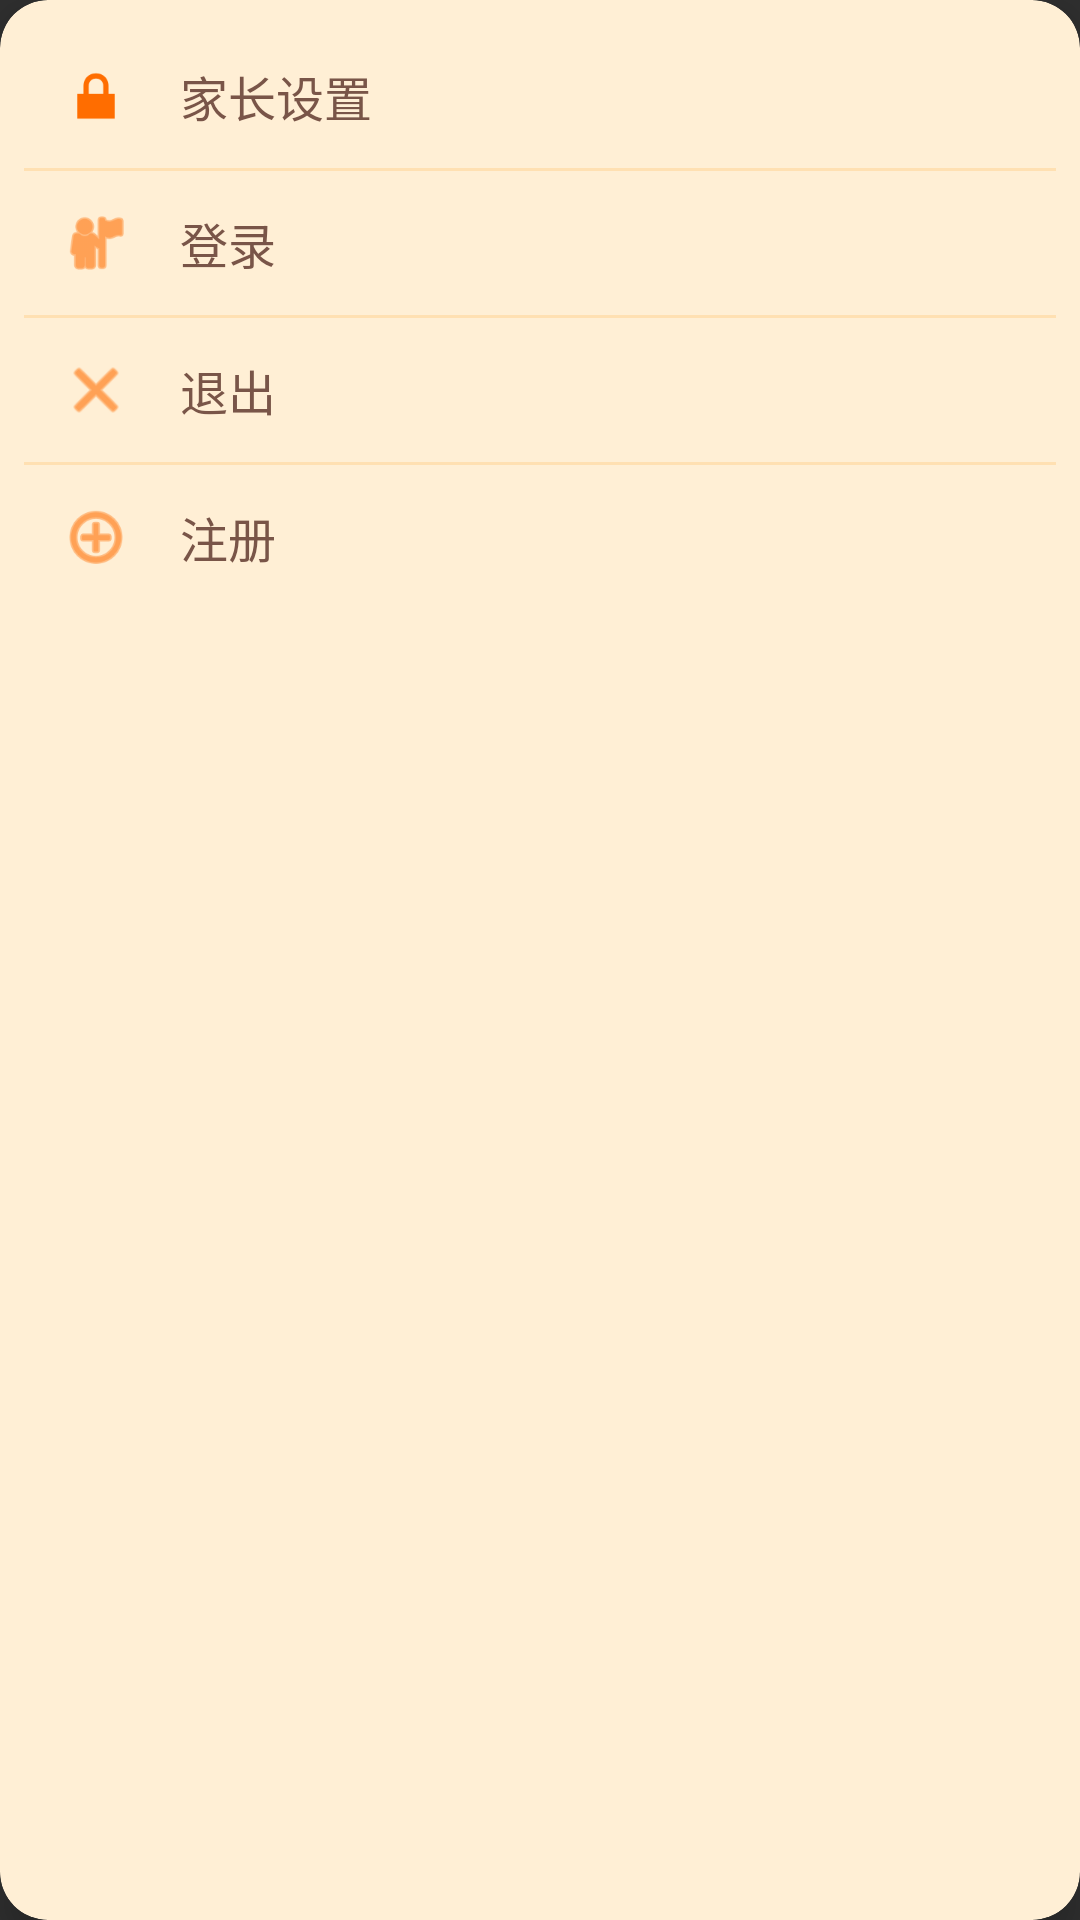

Icon bounding boxes for this 1080w x 1920h phone screenshot, format (x1, y1, x2, y2):
add: (69, 511, 123, 564)
close clear cancel: (73, 367, 119, 413)
lock: (77, 73, 115, 119)
myplaces: (70, 216, 124, 270)
